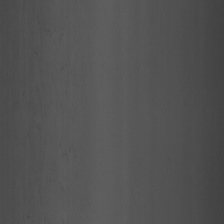silk_spot: (31, 20, 78, 84), (51, 142, 85, 201)
